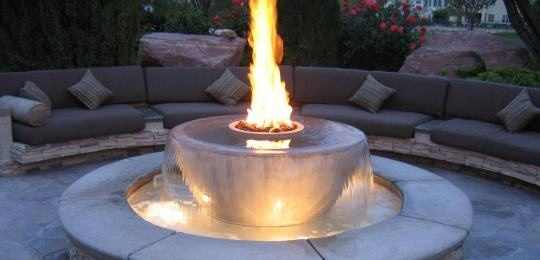fire: (241, 0, 295, 129)
